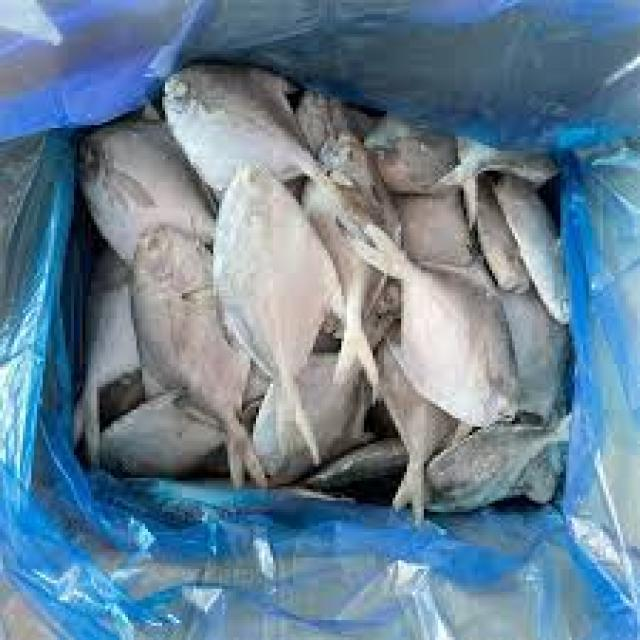pomfred: (212, 161, 356, 472)
